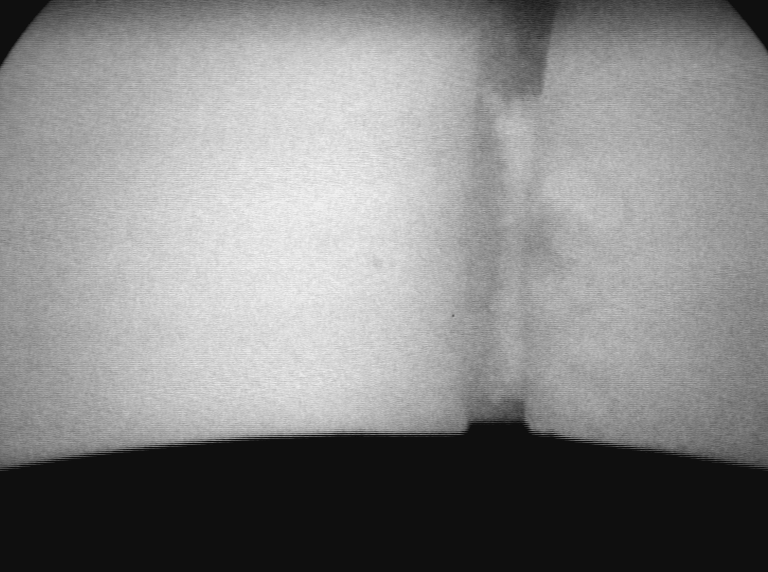defect: (534, 158, 636, 235)
